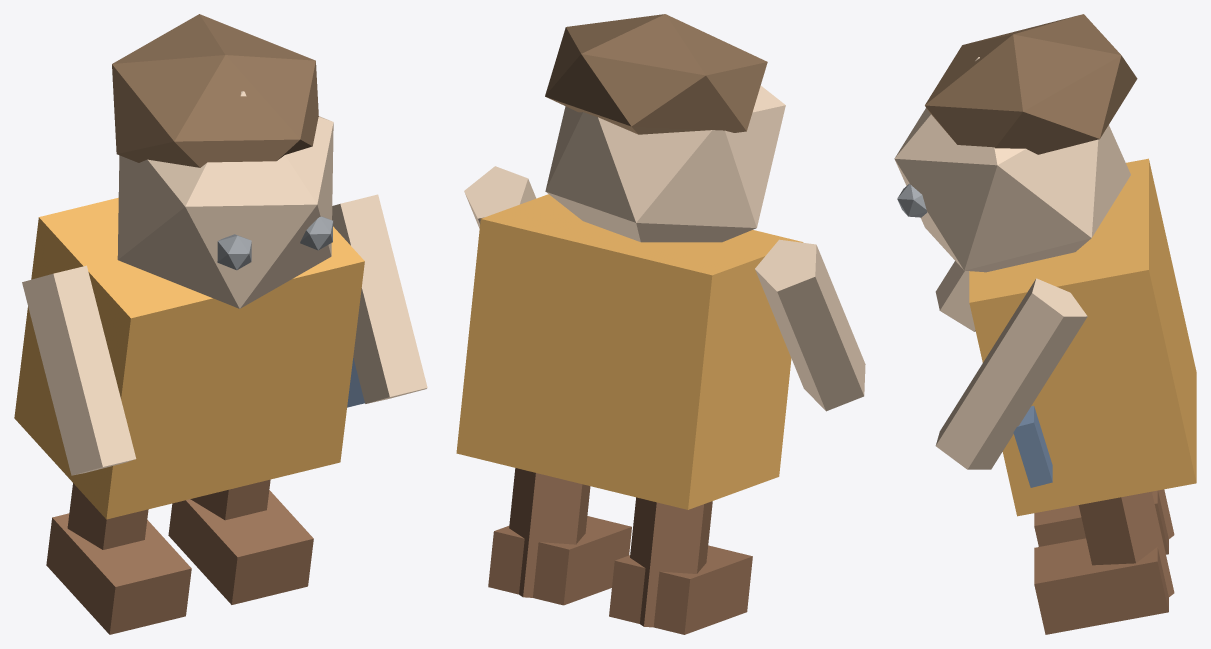
Rendered from npcpose_villager_walk_06.glb.
The picture shows the model from 3 angles, left to right: view 1: azimuth 30°, elevation 25°; view 2: azimuth 150°, elevation 25°; view 3: azimuth 270°, elevation 25°; orthographic projection. The views are drawn at different scales.
Visible parts, largest first — view 1: npcpose; view 2: npcpose; view 3: npcpose.
Part boxes in pixels (x1,y1,x2,y2): npcpose: [14, 14, 427, 634]; npcpose: [456, 14, 865, 634]; npcpose: [894, 14, 1196, 634].
Bounding box in the file's own units: 0.6977 × 1.07 × 0.5281.
